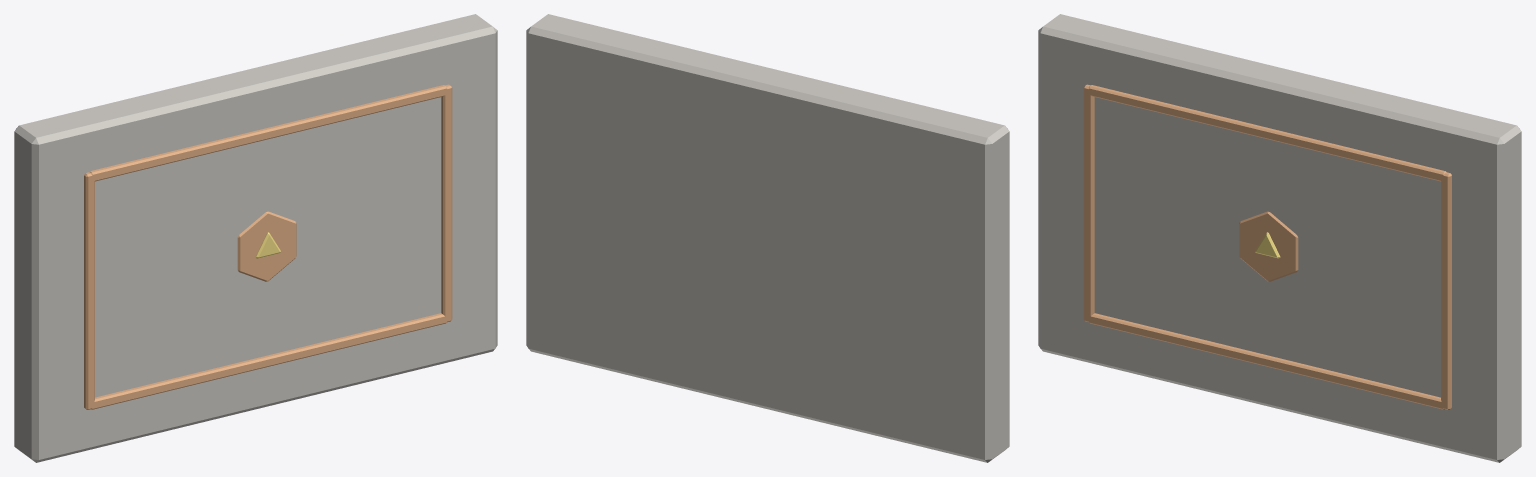
The model's file is portao.fbx.
3 views of the same model, side by side, from view 1: azimuth 30°, elevation 25°; view 2: azimuth 150°, elevation 25°; view 3: azimuth 330°, elevation 25° (orthographic).
Visible parts, largest first — view 1: Portao~Laje@stone, Portao~Friso 0@copper, Portao~Friso 1@copper, Portao~Emblema@copper, Portao~Friso 3@copper, Portao~Friso 2@copper; view 2: Portao~Laje@stone; view 3: Portao~Laje@stone, Portao~Friso 0@copper, Portao~Friso 1@copper, Portao~Emblema@copper, Portao~Friso 2@copper, Portao~Friso 3@copper.
Part boxes in pixels (bbox=[...]): Portao~Laje@stone: bbox=[14, 14, 497, 462]; Portao~Friso 0@copper: bbox=[89, 85, 446, 181]; Portao~Friso 1@copper: bbox=[91, 313, 446, 409]; Portao~Emblema@copper: bbox=[237, 211, 296, 281]; Portao~Friso 3@copper: bbox=[441, 84, 452, 322]; Portao~Friso 2@copper: bbox=[84, 172, 94, 409]; Portao~Laje@stone: bbox=[526, 14, 1009, 462]; Portao~Laje@stone: bbox=[1038, 14, 1521, 462]; Portao~Friso 0@copper: bbox=[1089, 85, 1446, 181]; Portao~Friso 1@copper: bbox=[1089, 313, 1444, 409]; Portao~Emblema@copper: bbox=[1239, 211, 1298, 281]; Portao~Friso 2@copper: bbox=[1083, 84, 1094, 322]; Portao~Friso 3@copper: bbox=[1441, 172, 1451, 409].
Size of the model in its own units: 6 by 4 by 0.56.
